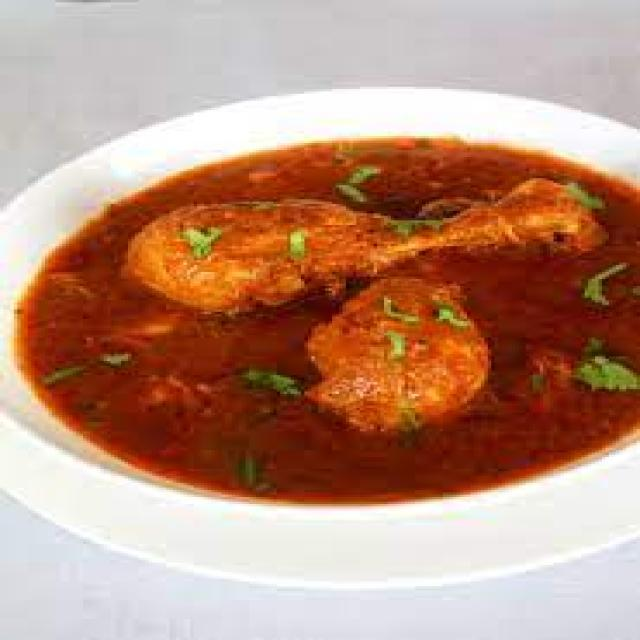Frango: (24, 129, 637, 502)
